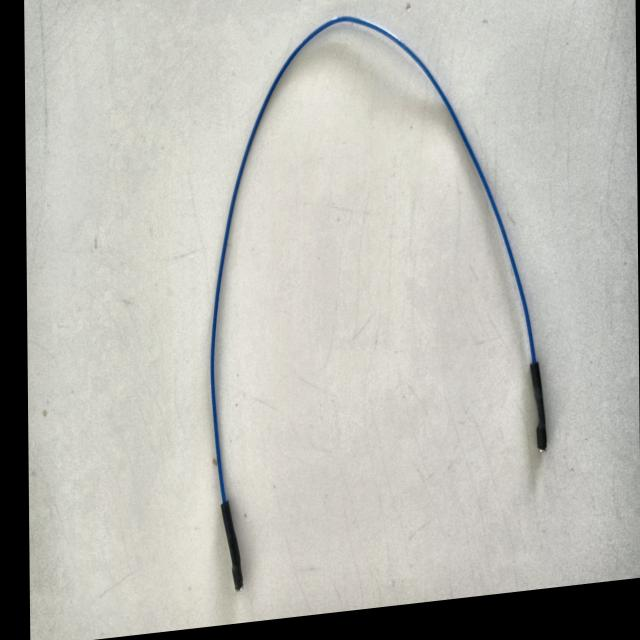BNC Cables Both Clips: (198, 0, 562, 609)
